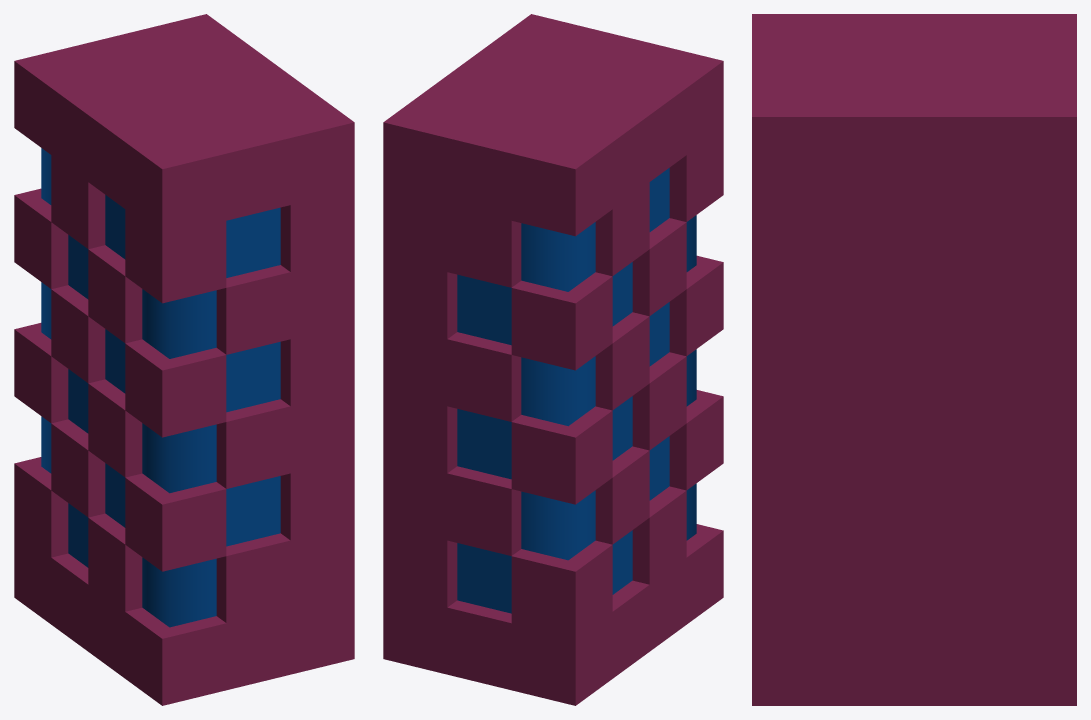
The model's file is wall_light.FBX.
3 renders of one model, left to right at view 1: azimuth 30°, elevation 25°; view 2: azimuth 150°, elevation 25°; view 3: azimuth 270°, elevation 25°, orthographic. The views are drawn at different scales.
Parts seen in each view (by area): view 1: walllight; view 2: walllight; view 3: walllight.
Part boxes in pixels (bbox=[...]): walllight: bbox=[14, 14, 354, 705]; walllight: bbox=[383, 14, 723, 705]; walllight: bbox=[752, 14, 1076, 705].
Bounding box in the file's own units: 1798 × 4794 × 2397.
